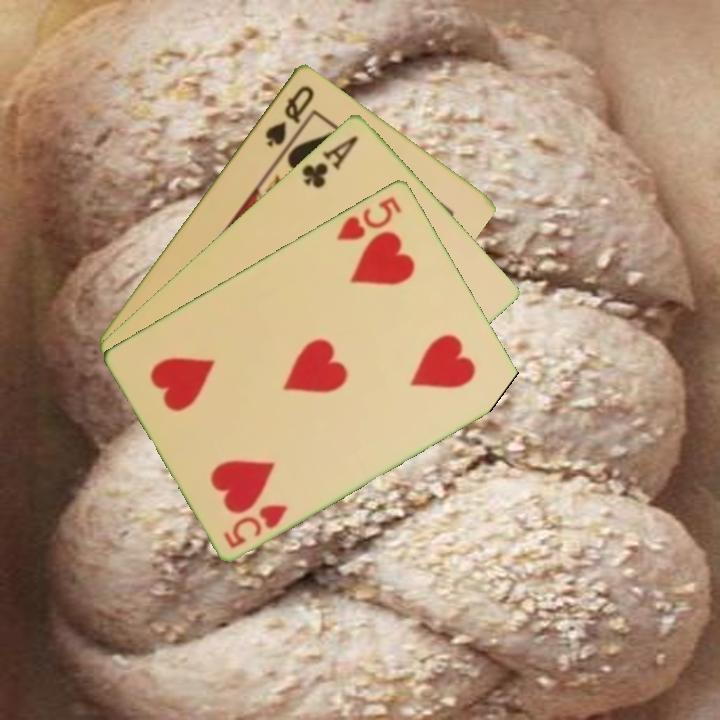5h: (333, 192, 405, 243), (220, 500, 290, 551)
Ac: (298, 131, 361, 191)
Qs: (261, 81, 317, 150)
